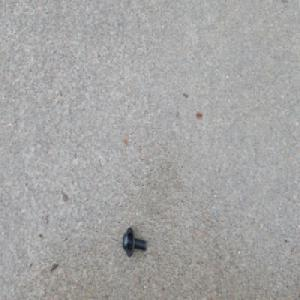BoltWasher: (122, 226, 147, 258)
